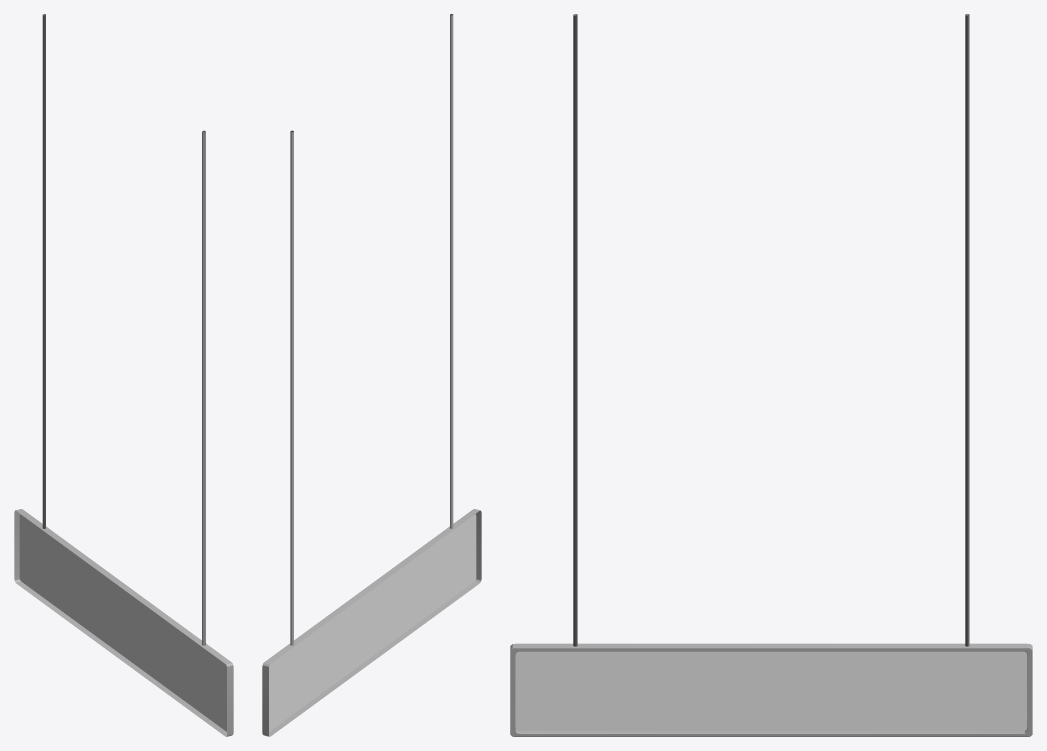
The model's file is sign_goods_in_out.glb.
3 renders of one model, left to right at view 1: azimuth 30°, elevation 25°; view 2: azimuth 150°, elevation 25°; view 3: azimuth 270°, elevation 25°, orthographic. The views are drawn at different scales.
Parts seen in each view (by area): view 1: GOODS IN/OUT; view 2: GOODS IN/OUT; view 3: GOODS IN/OUT.
Part boxes in pixels (x1,y1,x2,y2): GOODS IN/OUT: (14, 14, 233, 736); GOODS IN/OUT: (262, 14, 481, 736); GOODS IN/OUT: (510, 14, 1032, 736).
Bounding box in the file's own units: 0.0725 × 6.08 × 4.
Materials: 1 (1 with a texture image).
